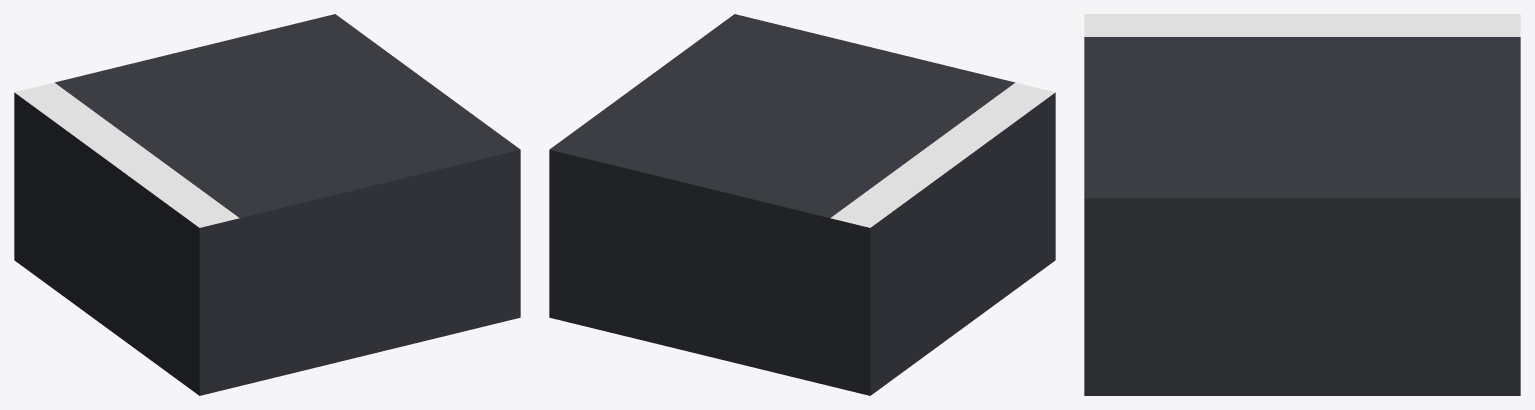
The model's file is NF_Floor_00_Black_8.fbx.
3 views of the same model, side by side, from view 1: azimuth 30°, elevation 25°; view 2: azimuth 150°, elevation 25°; view 3: azimuth 270°, elevation 25° (orthographic). The views are drawn at different scales.
Parts seen in each view (by area): view 1: NF_Floor_00_Black_8; view 2: NF_Floor_00_Black_8; view 3: NF_Floor_00_Black_8.
Boxes of the visible parts, x1,y1,x2,y2 form: NF_Floor_00_Black_8: (14, 14, 520, 395); NF_Floor_00_Black_8: (549, 14, 1055, 395); NF_Floor_00_Black_8: (1084, 14, 1520, 395).
Size of the model in its own units: 2 by 1 by 2.
1 material, 1 textured.
